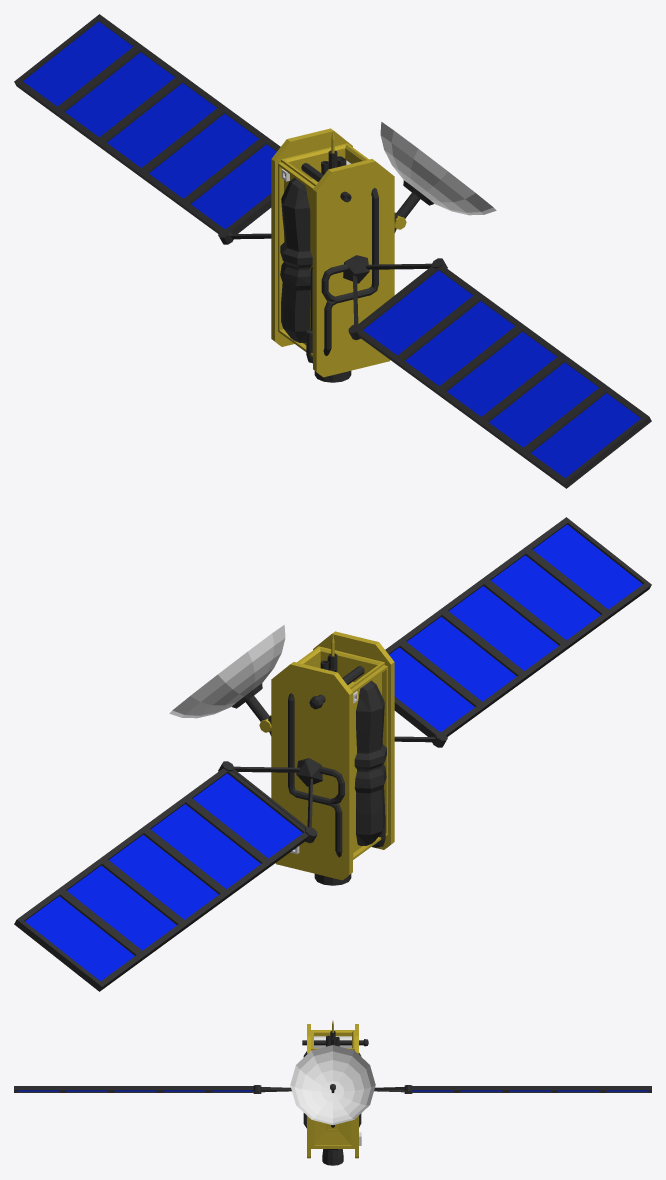
The model's file is Satellite.dae.
The picture shows the model from 3 angles, top to bottom: view 1: azimuth 30°, elevation 25°; view 2: azimuth 150°, elevation 25°; view 3: azimuth 270°, elevation 25°; orthographic projection. The views are drawn at different scales.
Visible parts, largest first — view 1: Cube.001, Cube, Sphere; view 2: Cube.001, Cube, Sphere; view 3: Sphere, Cube.001, Cube.
Boxes of the visible parts, x1,y1,x2,y2 form: Cube.001: (14,14,651,488); Cube: (271,128,394,382); Sphere: (380,122,496,232); Cube.001: (14,517,651,991); Cube: (271,631,394,885); Sphere: (169,625,285,735); Sphere: (290,1045,375,1127); Cube.001: (14,1085,651,1093); Cube: (302,1020,368,1165).
Size of the model in its own units: 5.18 by 24.4 by 5.95.
